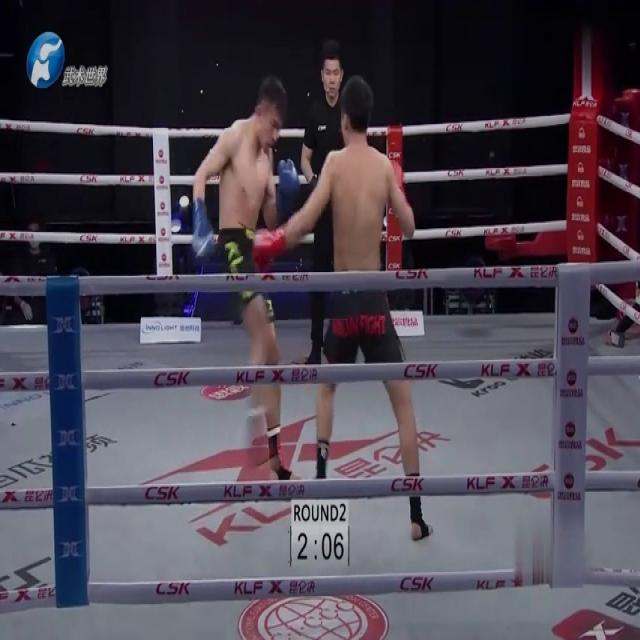fight: (249, 74, 434, 550), (190, 73, 303, 482)
non-fight: (300, 47, 352, 373)
